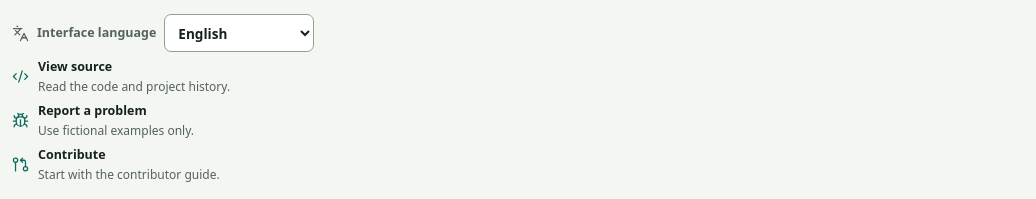
Test case: CommunityLinks › localizes link guidance without changing the fixed destinations
This screenshot has width=1036, height=199.
Select "Simplified Chinese" in the dropdown: [239, 33] box 164,14 -> 314,52
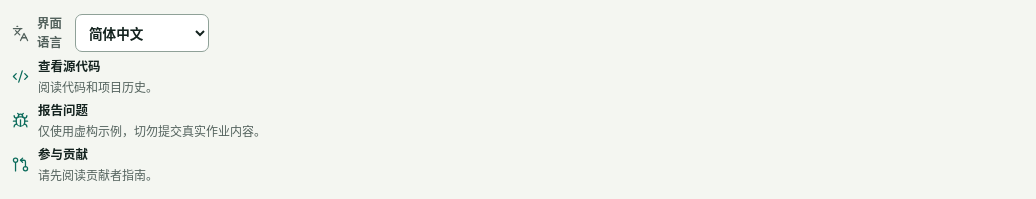
Expected: the navigation bar named "RubricTrail 开源社区" shows "切勿提交真实作业内容", 12,98 -> 1035,142
